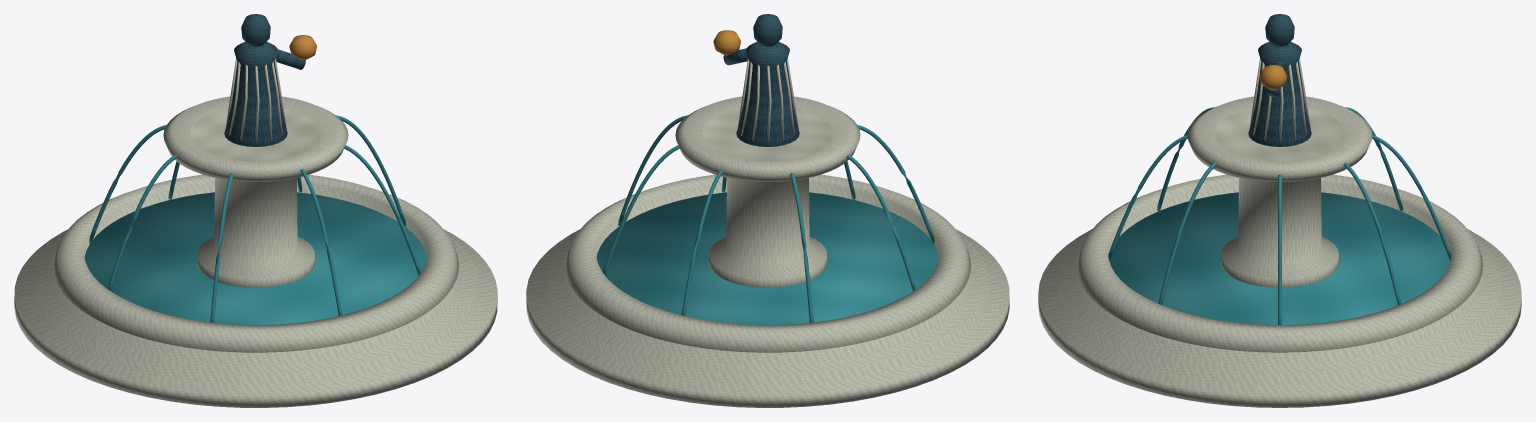
File: square_fountain.glb
The picture shows the model from 3 angles, left to right: view 1: azimuth 30°, elevation 25°; view 2: azimuth 150°, elevation 25°; view 3: azimuth 270°, elevation 25°; orthographic projection.
Parts seen in each view (by area): view 1: square_fountain_Structure, square_fountain_Detail, square_fountain_Metalwork; view 2: square_fountain_Structure, square_fountain_Detail, square_fountain_Metalwork; view 3: square_fountain_Structure, square_fountain_Detail, square_fountain_Metalwork.
Part boxes in pixels (box(x1,y1,x2,y2)): square_fountain_Structure: box(14, 14, 497, 407); square_fountain_Detail: box(89, 58, 421, 322); square_fountain_Metalwork: box(289, 35, 316, 60); square_fountain_Structure: box(526, 14, 1009, 407); square_fountain_Detail: box(602, 58, 934, 322); square_fountain_Metalwork: box(713, 30, 740, 55); square_fountain_Structure: box(1038, 14, 1521, 407); square_fountain_Detail: box(1108, 58, 1451, 324); square_fountain_Metalwork: box(1259, 65, 1287, 90).
Bounding box in the file's own units: 5.9 × 3.92 × 5.9.
2 materials, 2 textured.
